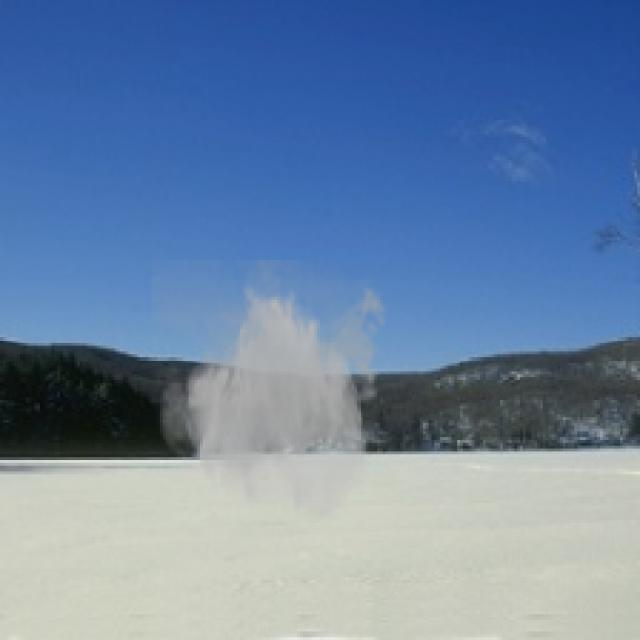smoke: (152, 260, 394, 526)
